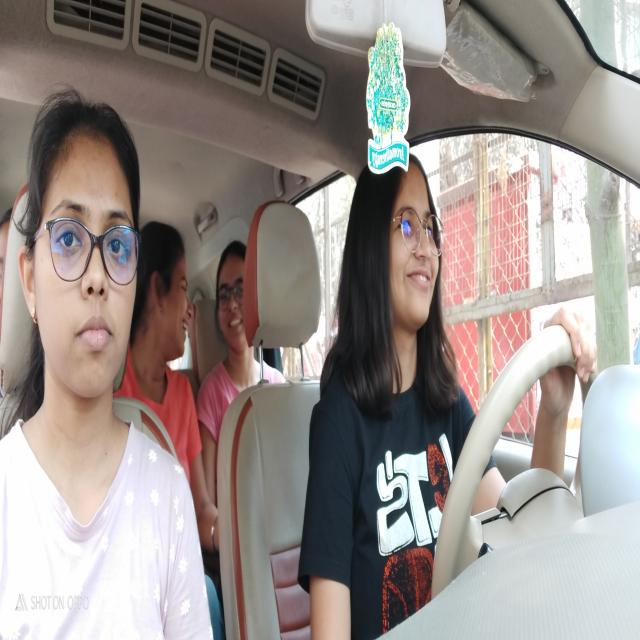person: (14, 87, 143, 413), (350, 161, 448, 350), (138, 217, 198, 383), (216, 243, 251, 352)
